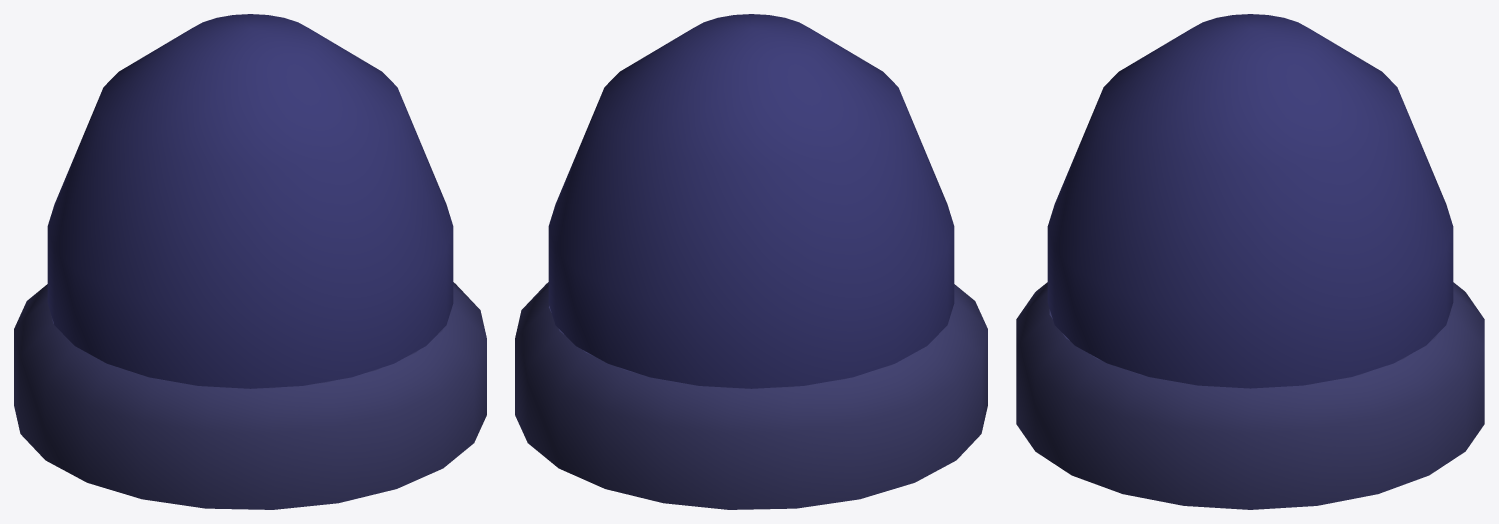
The model's file is furn_star_projector.glb.
3 views of the same model, side by side, from view 1: azimuth 30°, elevation 25°; view 2: azimuth 150°, elevation 25°; view 3: azimuth 270°, elevation 25° (orthographic).
Visible parts, largest first — view 1: furn_star_projector_gloss, furn_star_projector_main; view 2: furn_star_projector_gloss, furn_star_projector_main; view 3: furn_star_projector_gloss, furn_star_projector_main.
Part boxes in pixels (x1,y1,x2,y2): furn_star_projector_gloss: (47,14,453,388); furn_star_projector_main: (14,282,486,509); furn_star_projector_gloss: (548,14,954,388); furn_star_projector_main: (515,282,987,509); furn_star_projector_gloss: (1047,14,1453,388); furn_star_projector_main: (1016,282,1484,509).
Size of the model in its own units: 0.28 by 0.25 by 0.2772.
